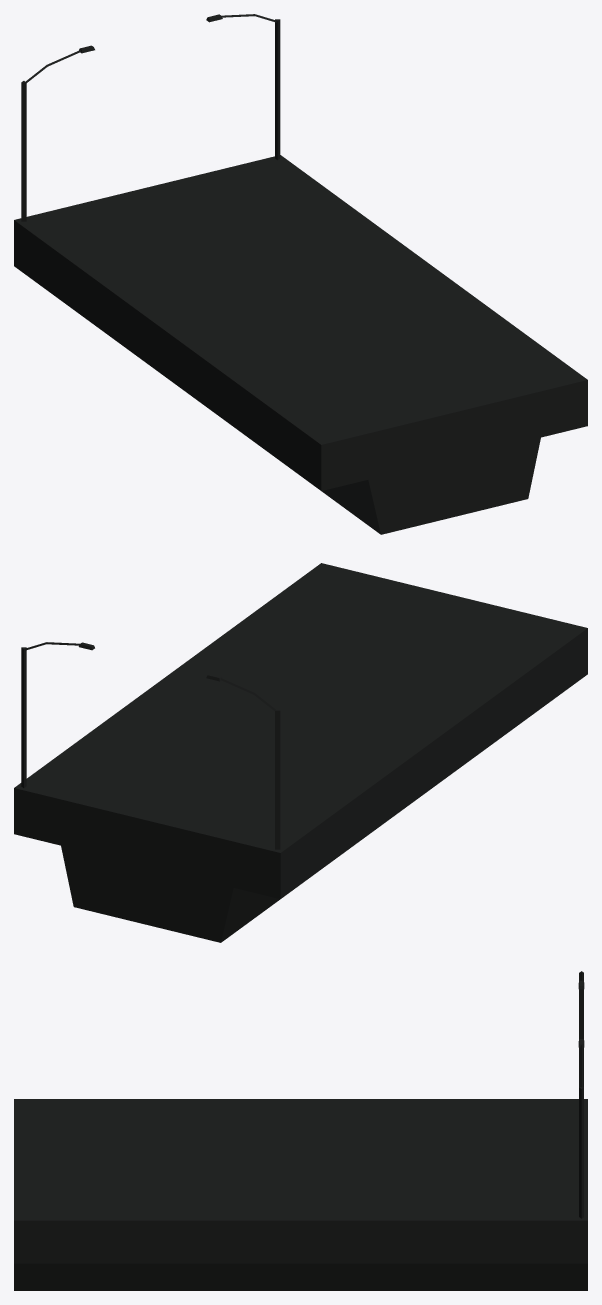
The model's file is AMB_NK_LORD_L.glb.
The picture shows the model from 3 angles, top to bottom: view 1: azimuth 30°, elevation 25°; view 2: azimuth 150°, elevation 25°; view 3: azimuth 270°, elevation 25°; orthographic projection. The views are drawn at different scales.
Visible parts, largest first — view 1: obj5, J00; view 2: obj5, J00; view 3: obj5, J00.
Boxes of the visible parts, box(x1,y1,x2,y2) form: obj5: box(14, 155, 587, 534); J00: box(21, 14, 280, 221); obj5: box(14, 563, 587, 942); J00: box(21, 642, 280, 849); obj5: box(14, 1099, 587, 1290); J00: box(578, 971, 584, 1218).
Size of the model in its own units: 50.08 by 47.07 by 100.
Materials: 3 (3 with a texture image).
